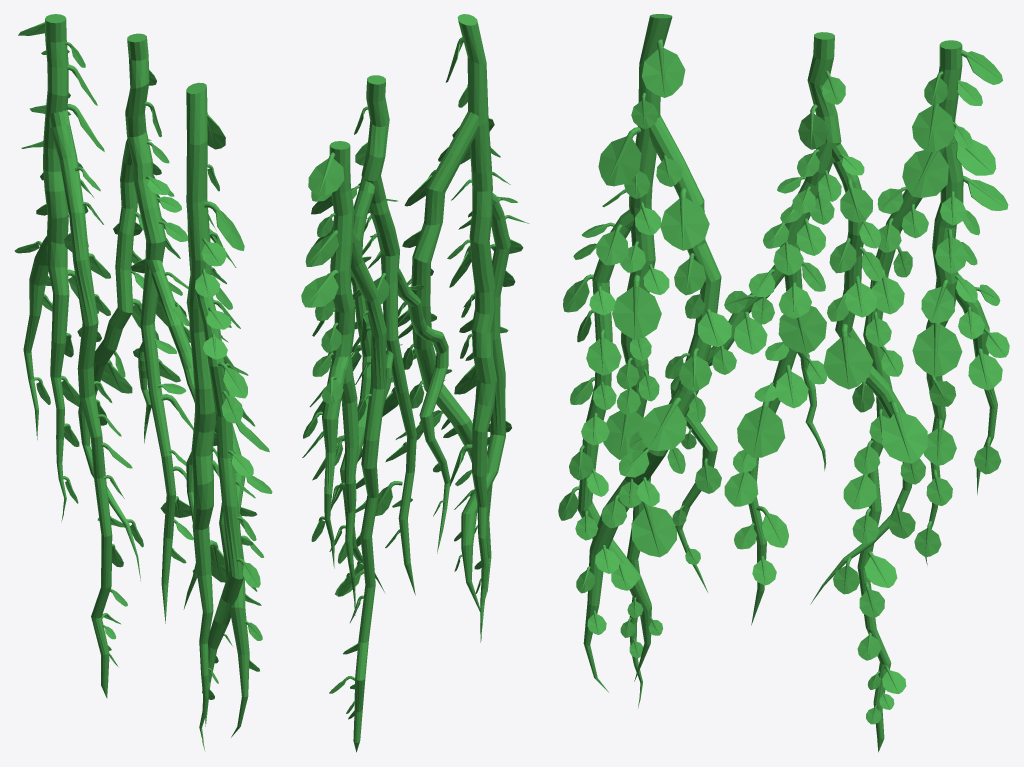
File: Ivy3.fbx
The picture shows the model from 3 angles, left to right: view 1: azimuth 30°, elevation 25°; view 2: azimuth 150°, elevation 25°; view 3: azimuth 270°, elevation 25°; orthographic projection. The views are drawn at different scales.
Visible parts, largest first — view 1: model; view 2: model; view 3: model.
Part boxes in pixels (x1=…): model: x1=14, y1=14, x2=272, y2=751; model: x1=301, y1=14, x2=529, y2=752; model: x1=558, y1=14, x2=1009, y2=752.
Size of the model in its own units: 111 by 747 by 417.
